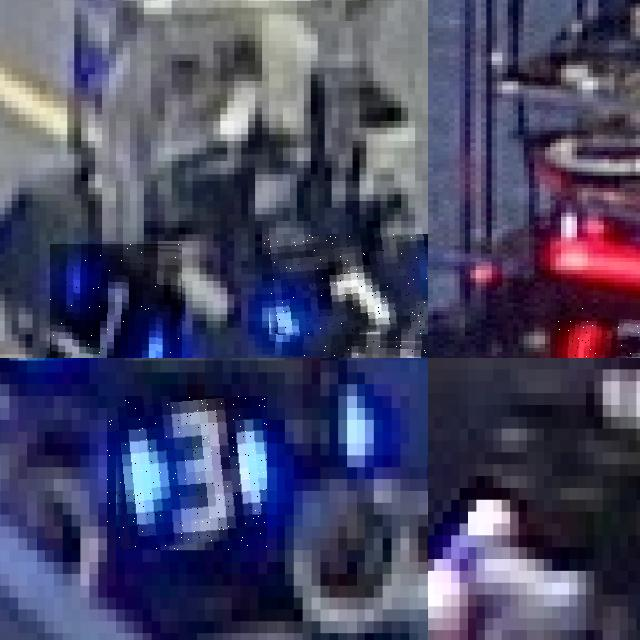B1: (262, 234, 428, 340), (50, 244, 182, 358)
B3: (107, 396, 267, 550)
R2: (555, 303, 640, 358)
